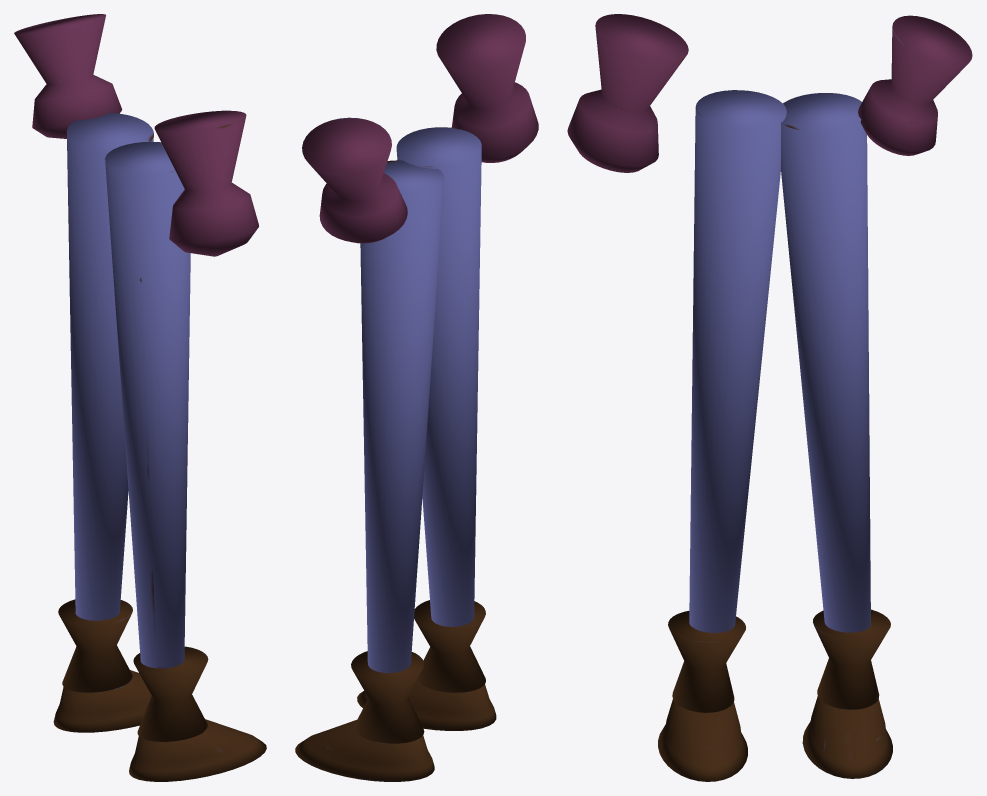
The model's file is jolpantalones.obj.
3 views of the same model, side by side, from view 1: azimuth 30°, elevation 25°; view 2: azimuth 150°, elevation 25°; view 3: azimuth 270°, elevation 25° (orthographic). The views are drawn at different scales.
Parts seen in each view (by area): view 1: Cylinder.009; view 2: Cylinder.009; view 3: Cylinder.009.
Part boxes in pixels (box(x1,y1,x2,y2)): Cylinder.009: box(14, 14, 266, 781); Cylinder.009: box(295, 14, 538, 781); Cylinder.009: box(567, 14, 972, 781).
Size of the model in its own units: 1.04 by 4.82 by 2.49.
